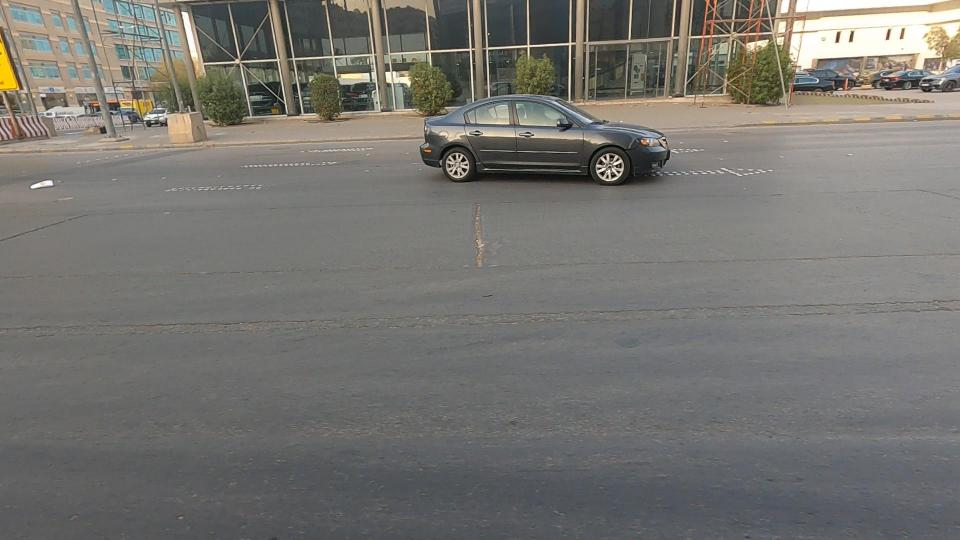GARBAGE: (0, 145, 101, 230)
